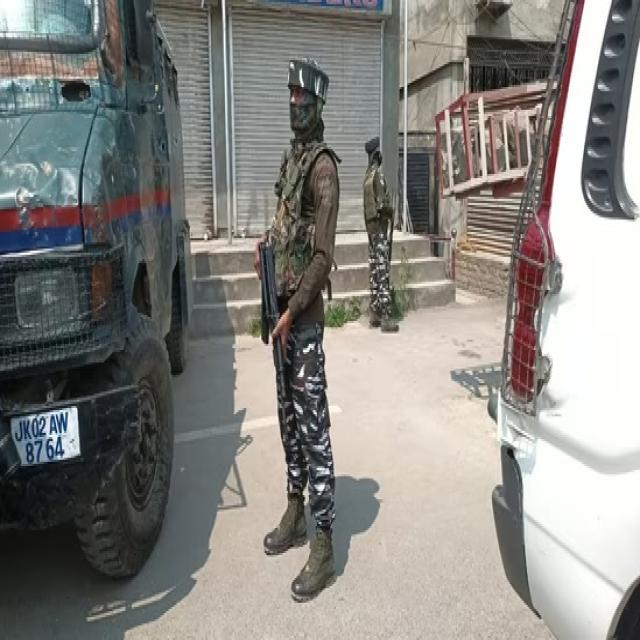plate: (11, 400, 81, 468)
